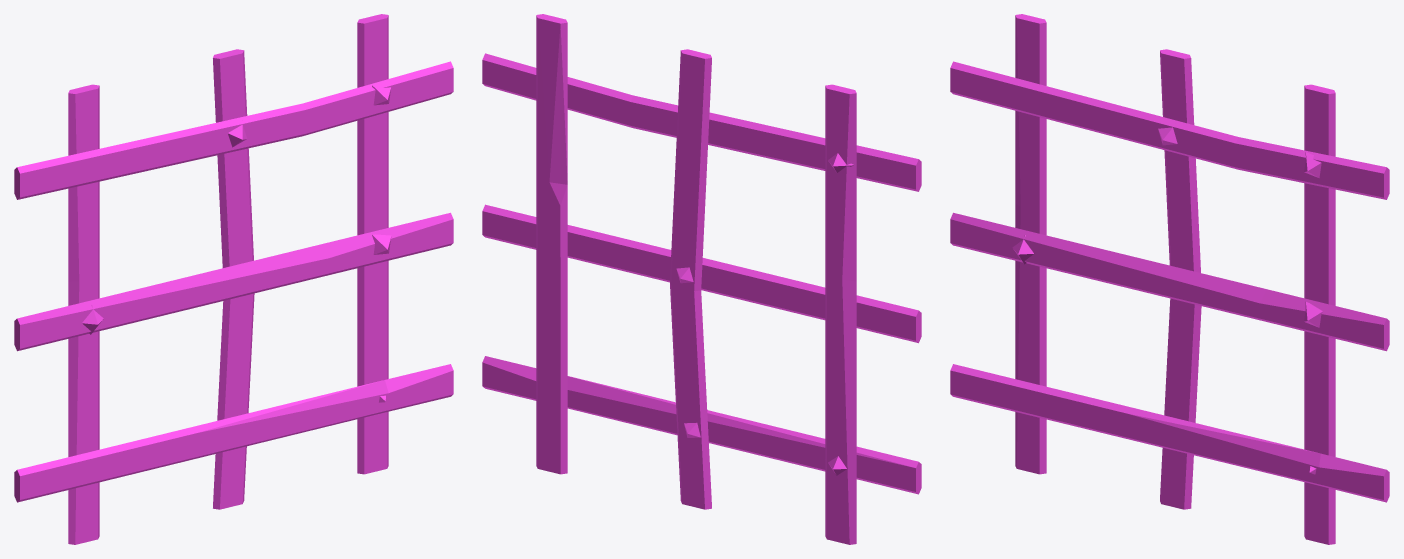
The model's file is SM_Wall_Bars_1x1m_Fantasy.fbx.
3 renders of one model, left to right at view 1: azimuth 30°, elevation 25°; view 2: azimuth 150°, elevation 25°; view 3: azimuth 330°, elevation 25°, orthographic.
Visible parts, largest first — view 1: SM_Wall_Bars_1x1m_Fantasy; view 2: SM_Wall_Bars_1x1m_Fantasy; view 3: SM_Wall_Bars_1x1m_Fantasy.
Part boxes in pixels (x1,y1,x2,y2): SM_Wall_Bars_1x1m_Fantasy: (14, 14, 453, 544); SM_Wall_Bars_1x1m_Fantasy: (482, 14, 921, 544); SM_Wall_Bars_1x1m_Fantasy: (950, 14, 1389, 544).
Size of the model in its own units: 1 by 0.9933 by 0.0838.
